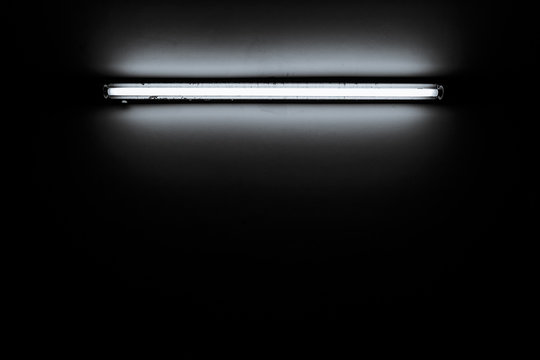TubeLight: (90, 76, 450, 117)
